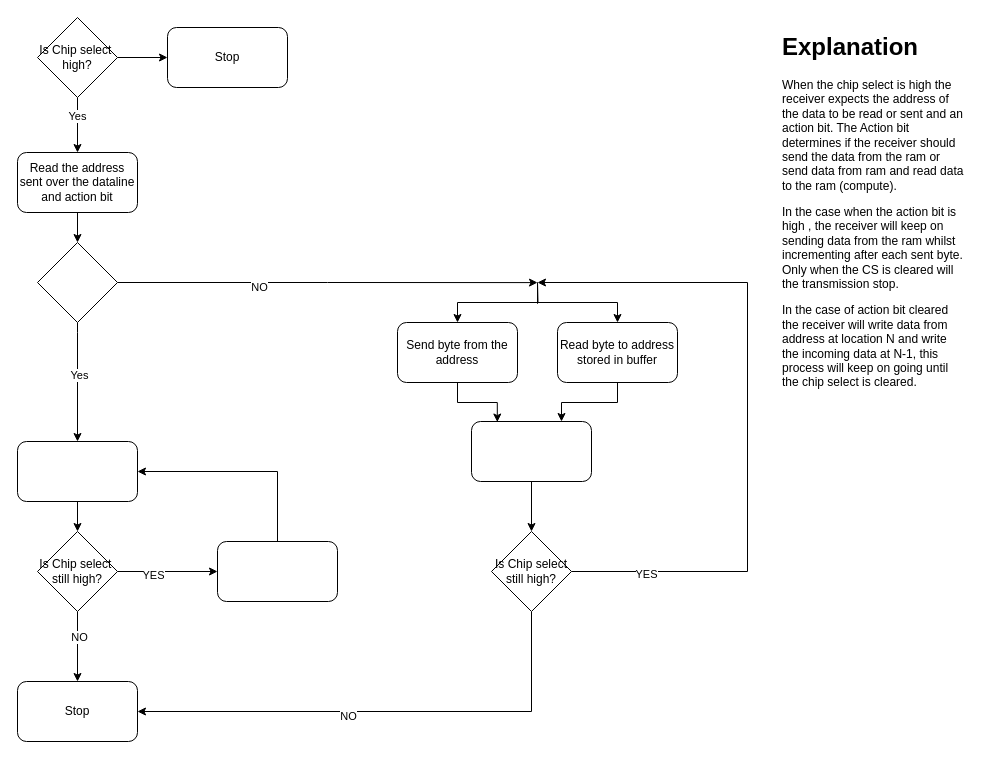
Image size: 985x759. Some labels were removed from this diagram. The shapes that lost their labels are listed below. From the top down, each one's centre as x and y in pixels, then its label:
At pixel 77 282: "Is action bit High".
At pixel 77 471: "Send byte at address".
At pixel 531 451: "Store address to buffer(old) and increment address".
At pixel 277 571: "Increment address counter".
